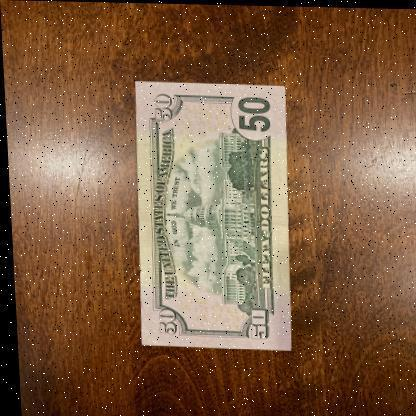fifty-back: (126, 80, 297, 351)
